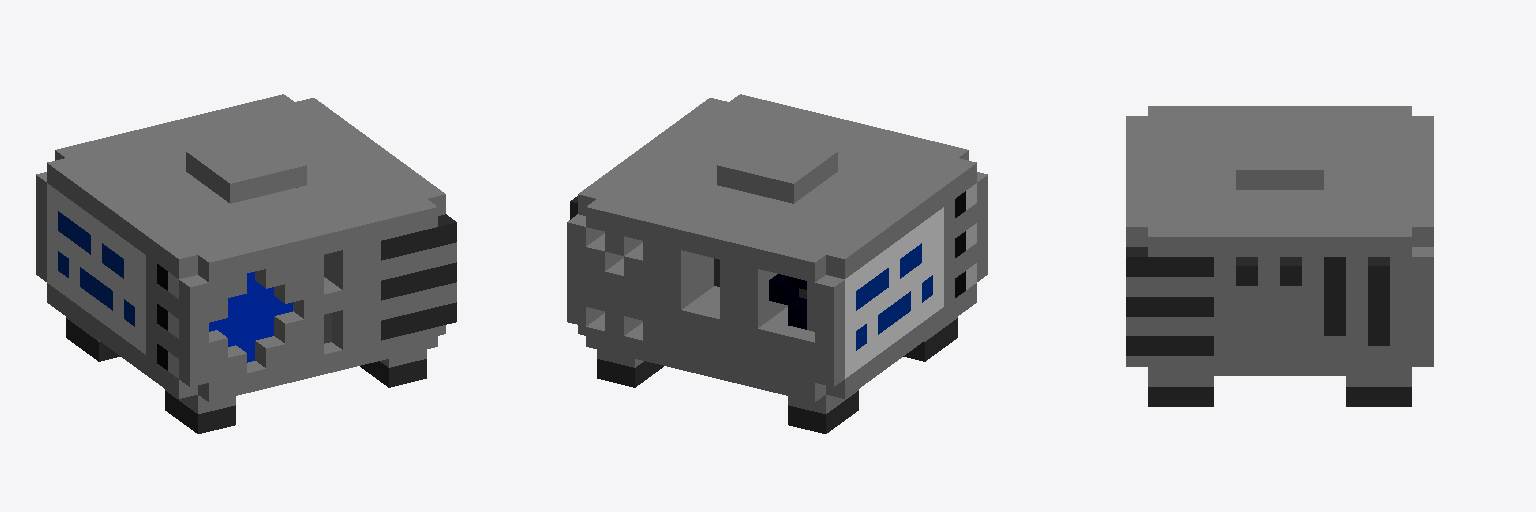
3 renders of one model, left to right at view 1: azimuth 30°, elevation 25°; view 2: azimuth 150°, elevation 25°; view 3: azimuth 270°, elevation 25°, orthographic.
Visible parts, largest first — view 1: ProjectorGround_46; view 2: ProjectorGround_46; view 3: ProjectorGround_46.
Part boxes in pixels (left/top/right/bottom): ProjectorGround_46: left=36, top=94, right=456, bottom=433; ProjectorGround_46: left=567, top=94, right=987, bottom=433; ProjectorGround_46: left=1126, top=106, right=1433, bottom=406.
Bounding box in the file's own units: 1.5 × 1 × 1.4.
1 materials, 1 textured.